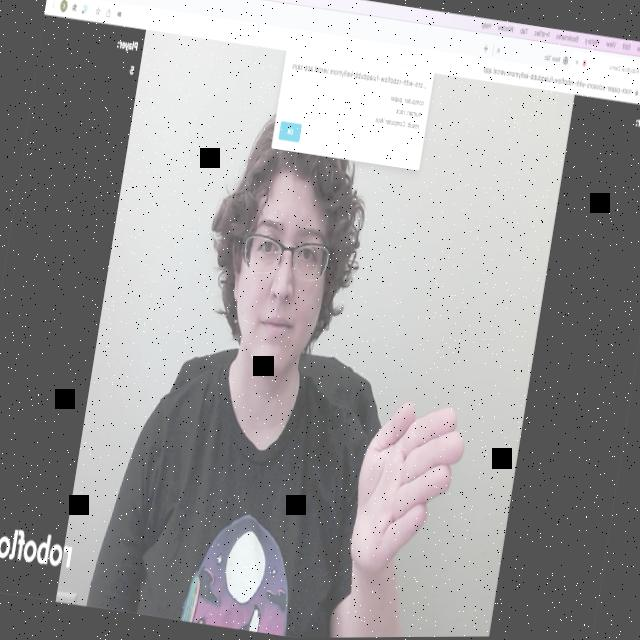Paper: (323, 375, 475, 595)
